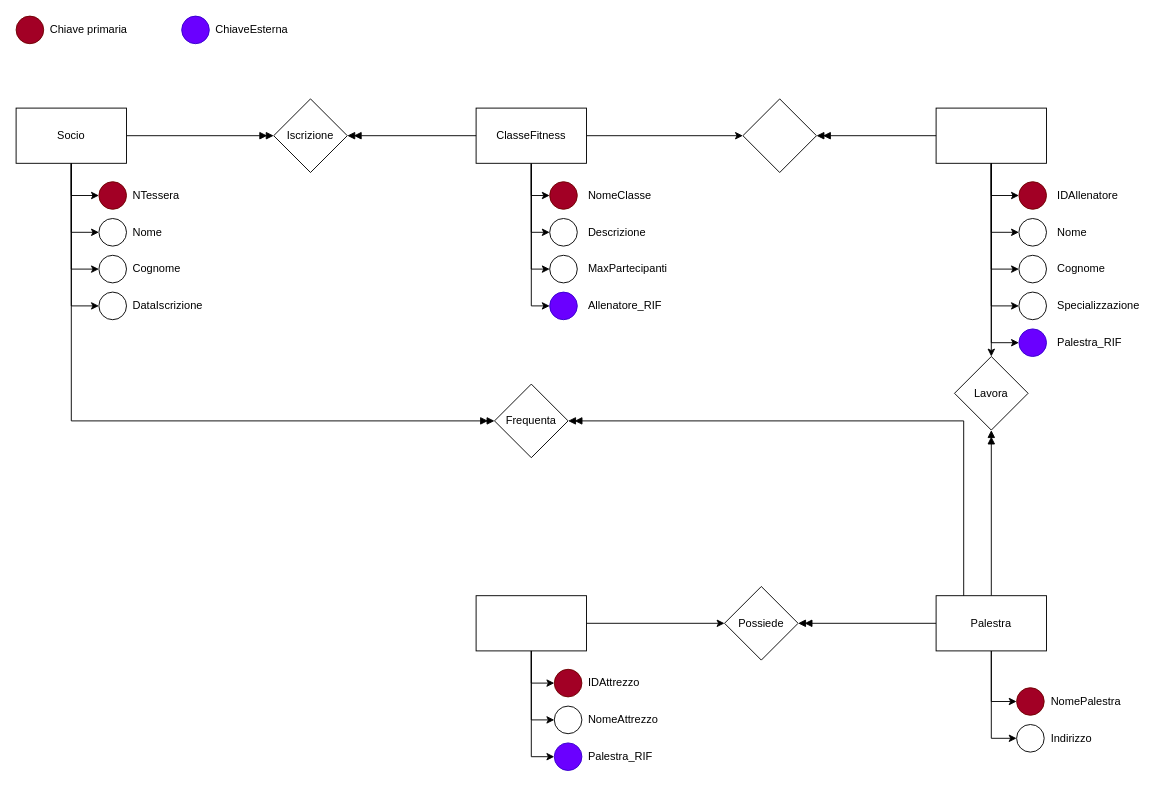
This 1173x787 diagram has some shape labels left out. The shapes that lost their labels are listed below. From the top down, each one's centre as x and y in pixels, then its label:
At (779,135): "Insegna".
At (990,135): "Allenatore".
At (530,623): "Attrezzo".
